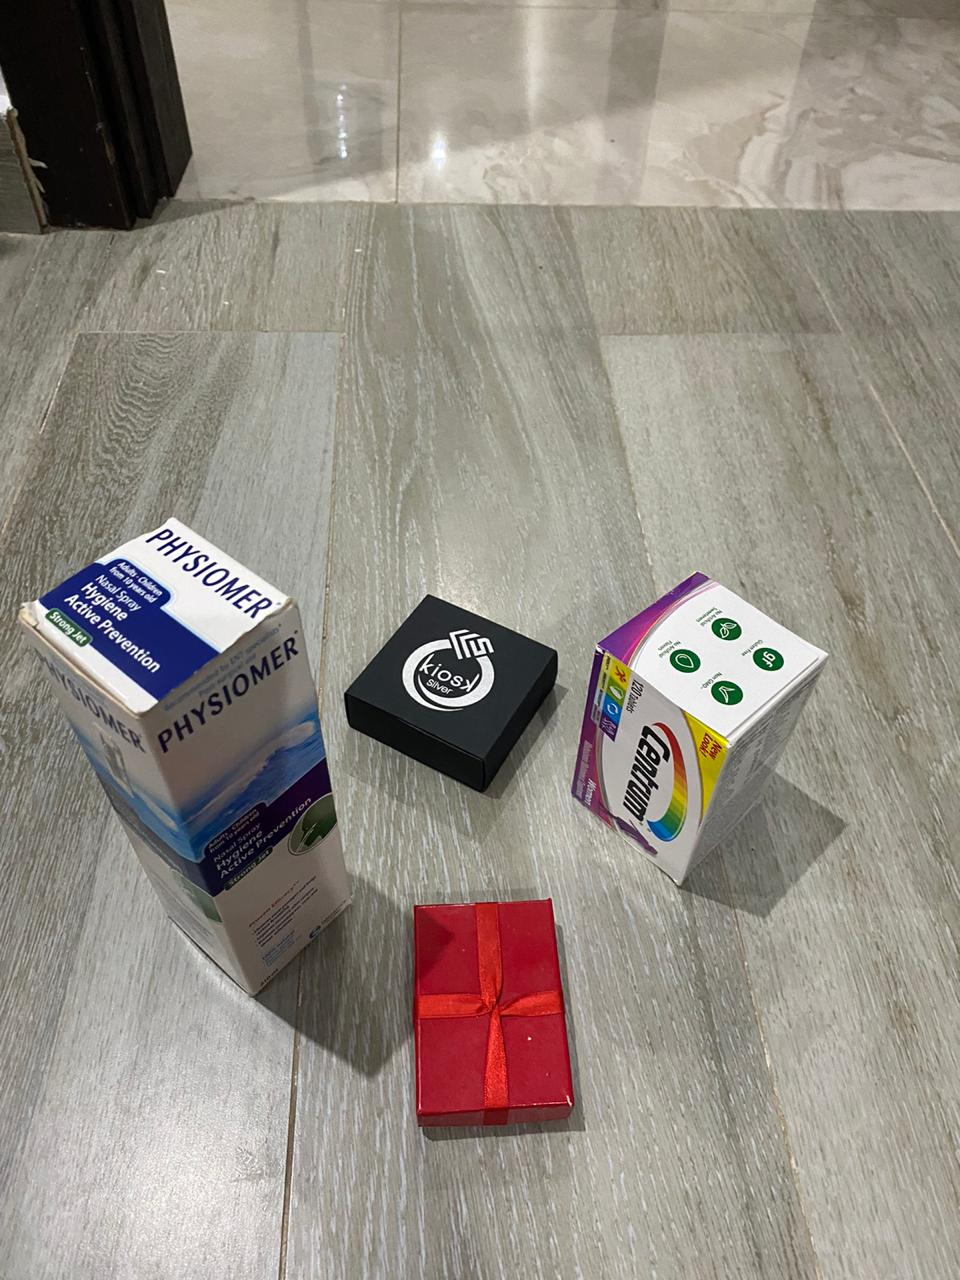Black Box: (405, 898, 584, 1131)
Centrum: (571, 568, 832, 893)
Physiomer: (23, 515, 360, 1001)
Red Box: (349, 593, 565, 802)
